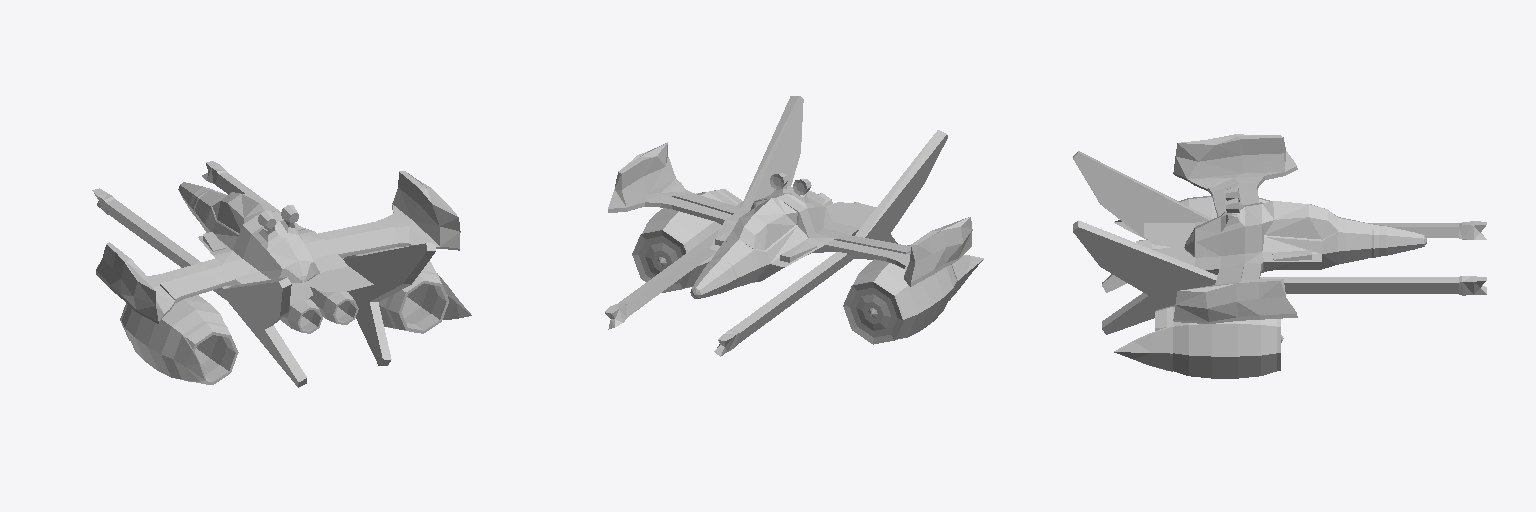
Rendered from Main_Ship.obj.
3 views of the same model, side by side, from view 1: azimuth 30°, elevation 25°; view 2: azimuth 150°, elevation 25°; view 3: azimuth 270°, elevation 25° (orthographic).
Parts seen in each view (by area): view 1: polySurface5; view 2: polySurface5; view 3: polySurface5.
Boxes of the visible parts, box(x1,y1,x2,y2) form: polySurface5: box(92, 161, 471, 387); polySurface5: box(605, 96, 983, 356); polySurface5: box(1073, 134, 1486, 378).
Size of the model in its own units: 10.54 by 4.42 by 11.91.